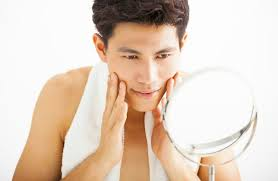asian_male: (95, 16, 183, 116)
